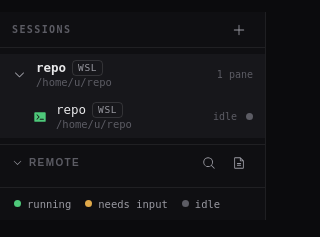
Test: Sidebar — folder lines: full path + right-click menu › Reveal is unavailable for a WSL pane's path
Right-click the element with class "tree-dir" at {"x": 94, "y": 124}, box x1=56 y1=118 x2=132 y2=130
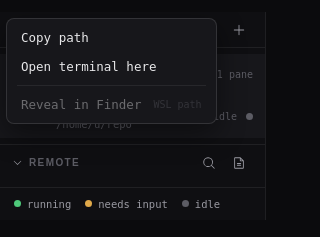
Expected: the text "WSL path" is shown, x1=153 y1=99 x2=202 y2=110
Expected: the button "Reveal in Finder WSL path" is disabled, x1=11 y1=90 x2=212 y2=119
